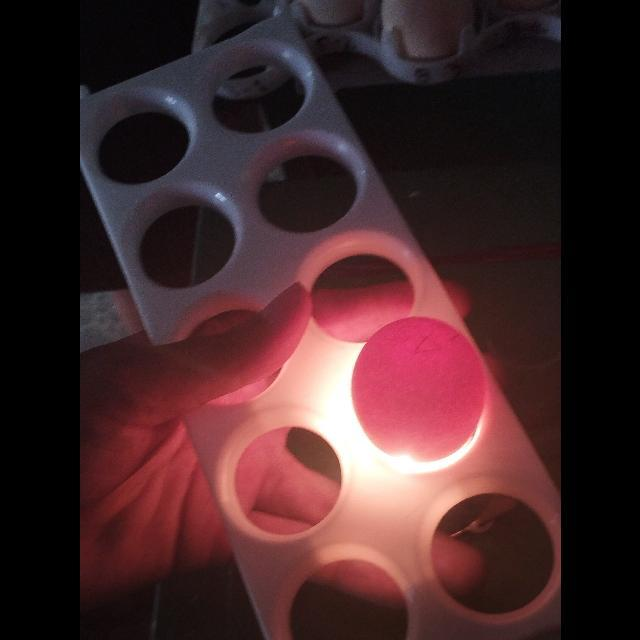Infertile: (349, 312, 488, 468)
